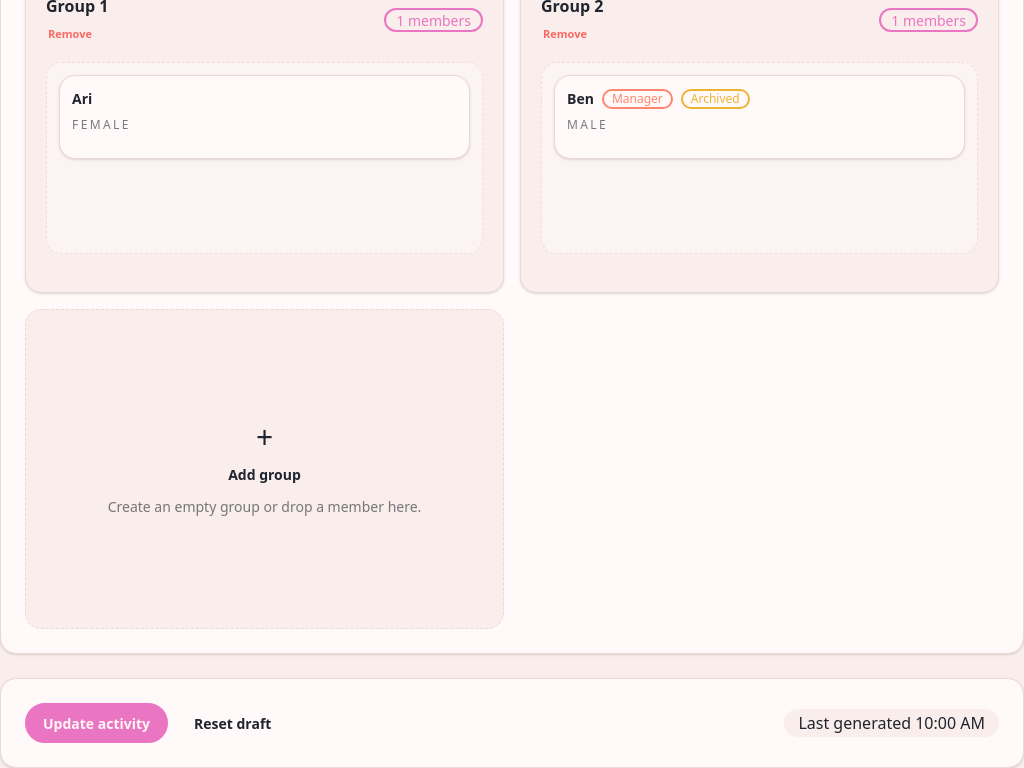
Test: activity builder page › adds an empty group from the add-group tile and disables removing the last remaining group
This screenshot has width=1024, height=768.
(page scrolled)
Click the button "Add group": (264, 469) x1=25 y1=309 x2=504 y2=629
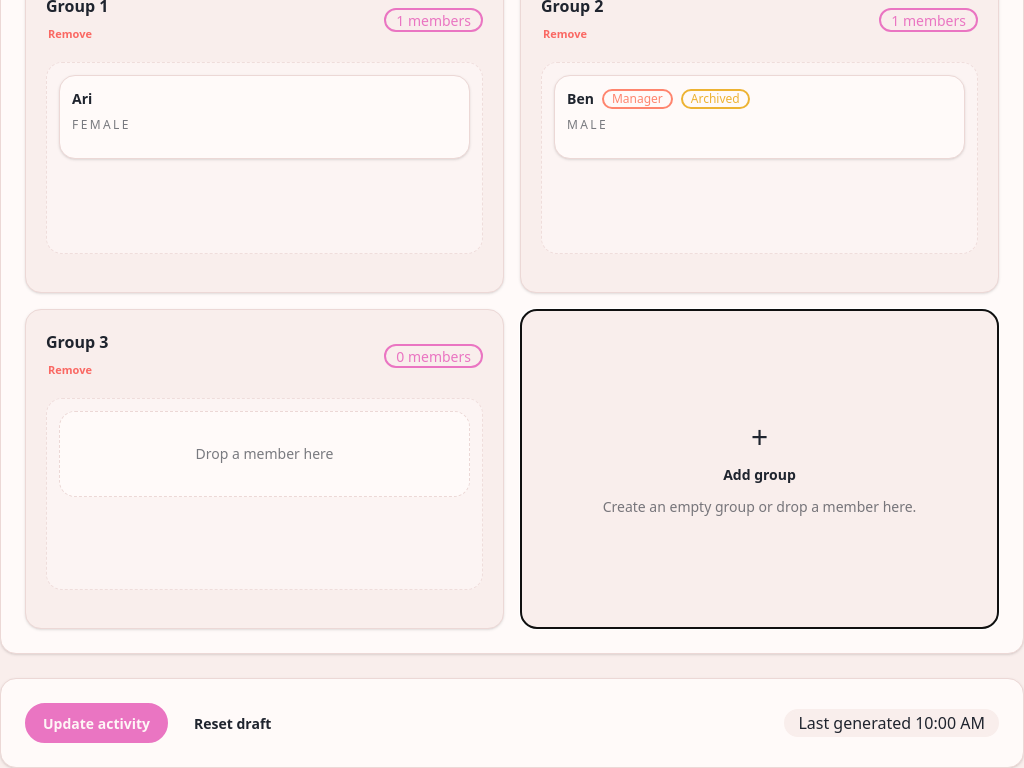
Result: the heading "Group 3" is shown at x1=46 y1=330 x2=108 y2=354
Click the button with aria-label "Remove group 3": (70, 370) x1=46 y1=358 x2=94 y2=382
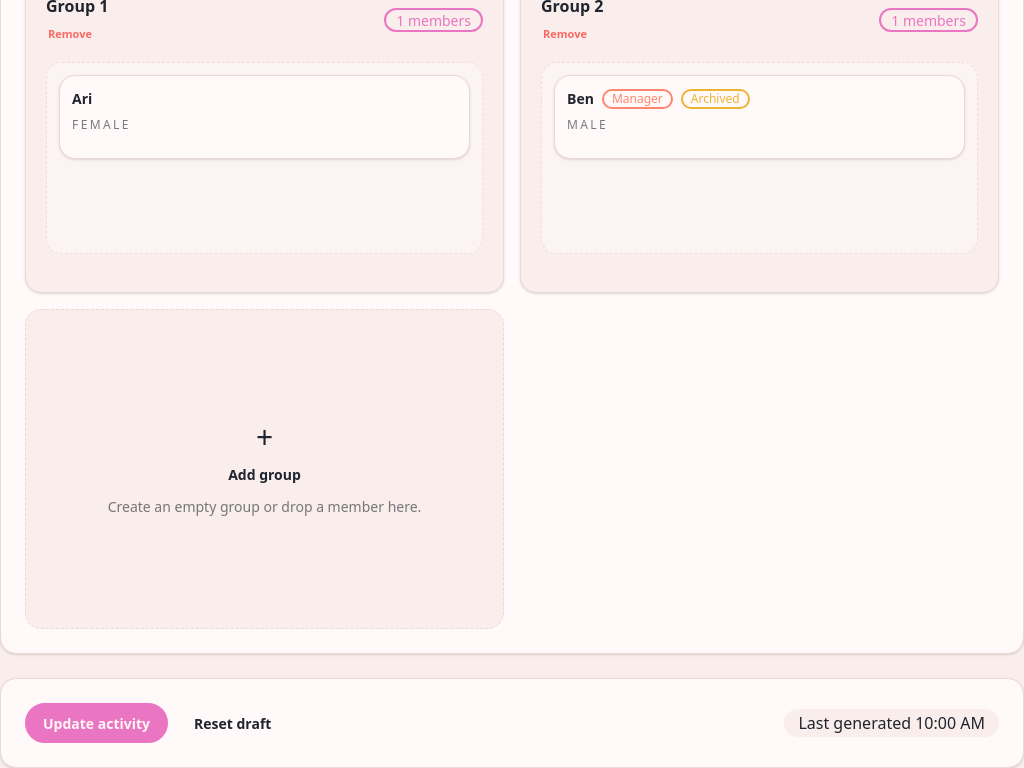
Click the button with aria-label "Remove group 2": (565, 34) x1=541 y1=22 x2=589 y2=46
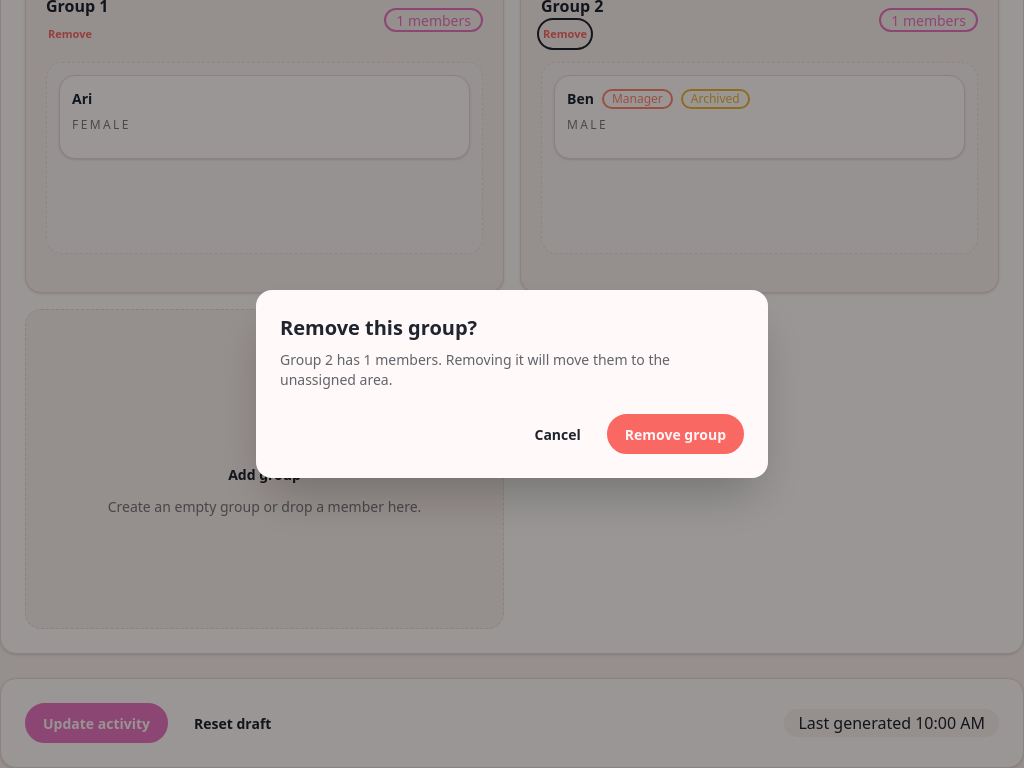
Result: the heading "Remove this group?" is shown at x1=280 y1=314 x2=477 y2=341
Click the button "Remove group": (675, 434) x1=607 y1=414 x2=744 y2=454
(page scrolled)
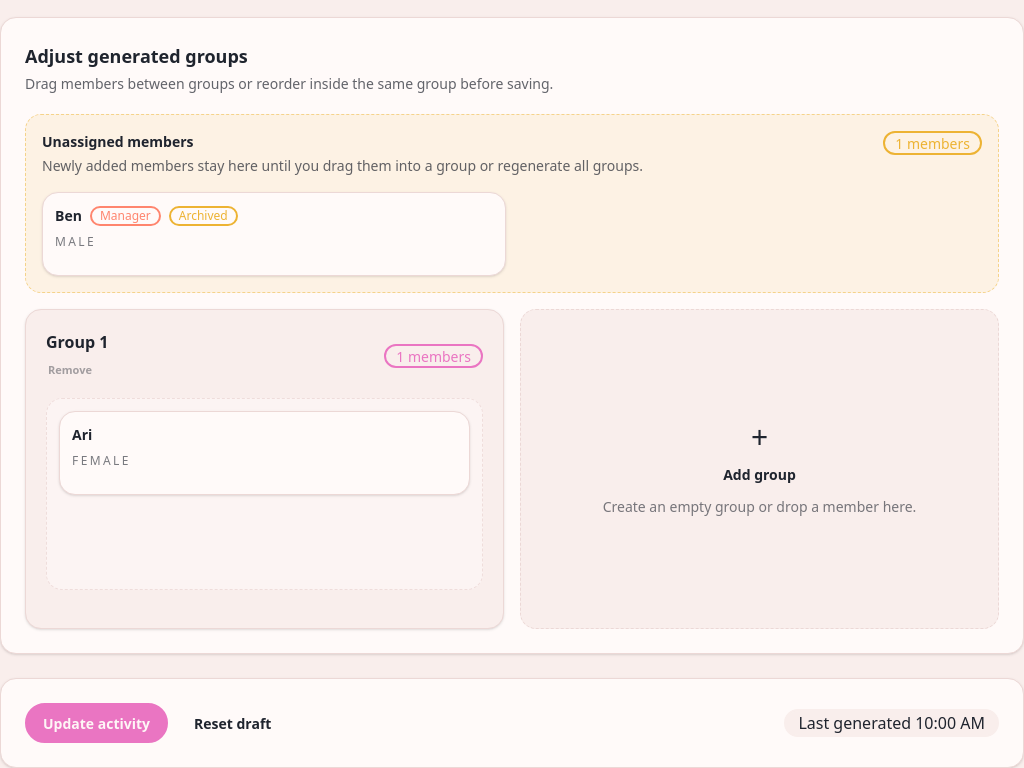
Result: the button with aria-label "Remove group 1" is disabled at x1=46 y1=358 x2=94 y2=382
